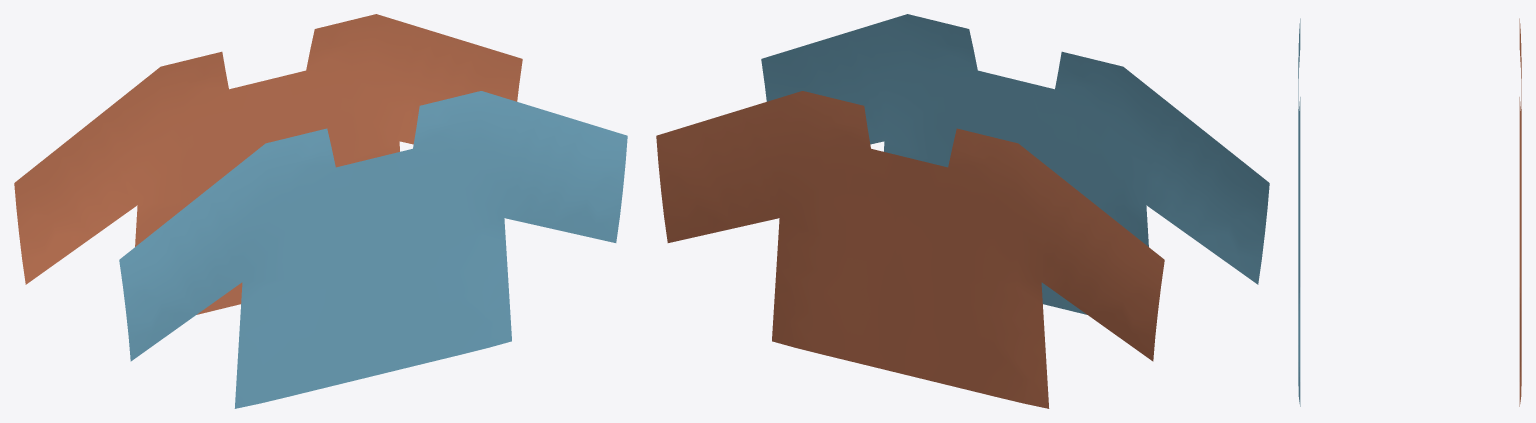
File: Before finish.gltf
The picture shows the model from 3 angles, left to right: view 1: azimuth 30°, elevation 25°; view 2: azimuth 150°, elevation 25°; view 3: azimuth 270°, elevation 25°; orthographic projection. The views are drawn at different scales.
Parts seen in each view (by area): view 1: Harbor front, Harbor back; view 2: Harbor back, Harbor front; view 3: Harbor front, Harbor back.
Boxes of the visible parts, left/top/right/bottom form: Harbor front: left=119, top=91, right=627, bottom=408; Harbor back: left=14, top=14, right=522, bottom=314; Harbor back: left=656, top=91, right=1164, bottom=408; Harbor front: left=761, top=14, right=1269, bottom=314; Harbor front: left=1298, top=18, right=1300, bottom=406; Harbor back: left=1519, top=18, right=1521, bottom=406.
Bounding box in the file's own units: 1.32 × 0.6399 × 0.4813.
